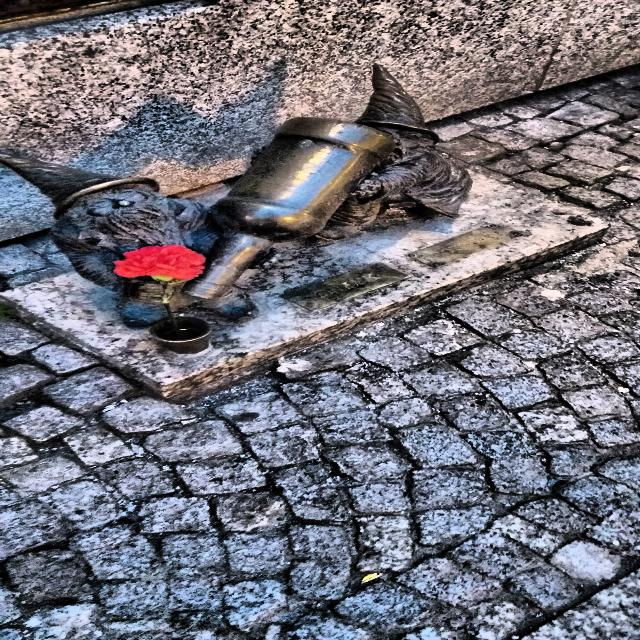Ogorzalek_i_Opilek: (0, 65, 471, 315)
